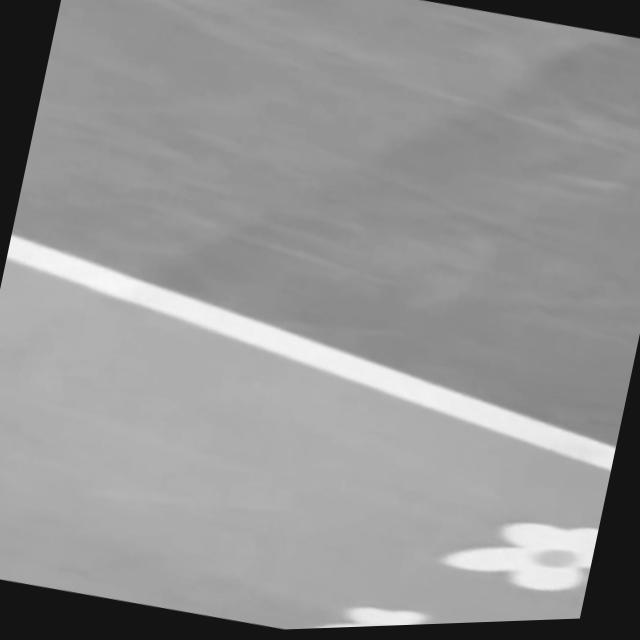right: (6, 233, 616, 468)
